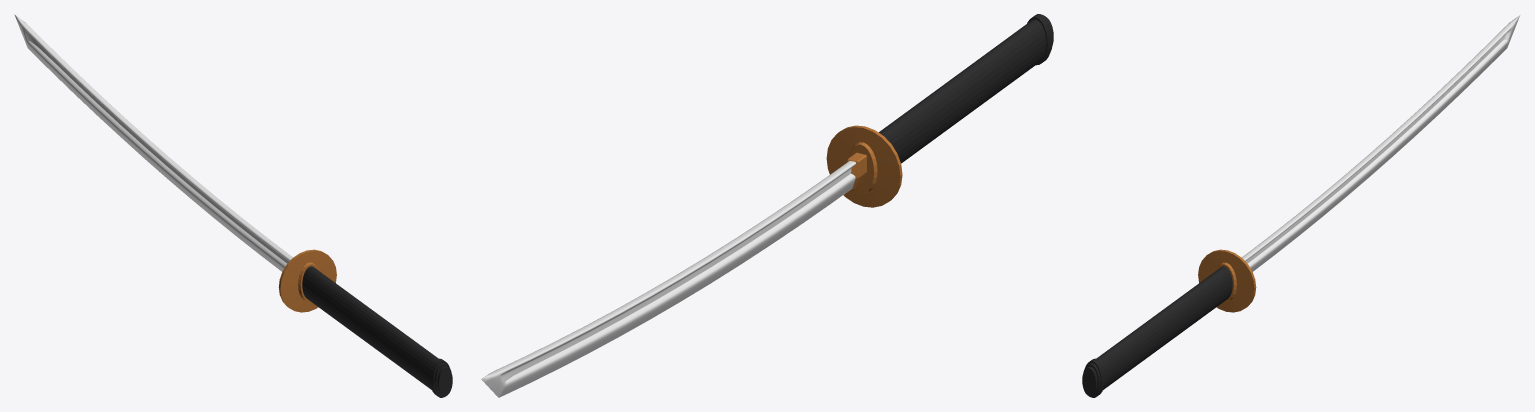
Rendered from katana.glb.
3 views of the same model, side by side, from view 1: azimuth 30°, elevation 25°; view 2: azimuth 150°, elevation 25°; view 3: azimuth 330°, elevation 25° (orthographic). The views are drawn at different scales.
Parts seen in each view (by area): view 1: Cube.001; view 2: Cube.001; view 3: Cube.001.
Boxes of the visible parts, x1,y1,x2,y2 form: Cube.001: (14,14,452,397); Cube.001: (481,14,1053,397); Cube.001: (1082,14,1520,397).
Bounding box in the file's own units: 3.26 × 4.53 × 43.08.
